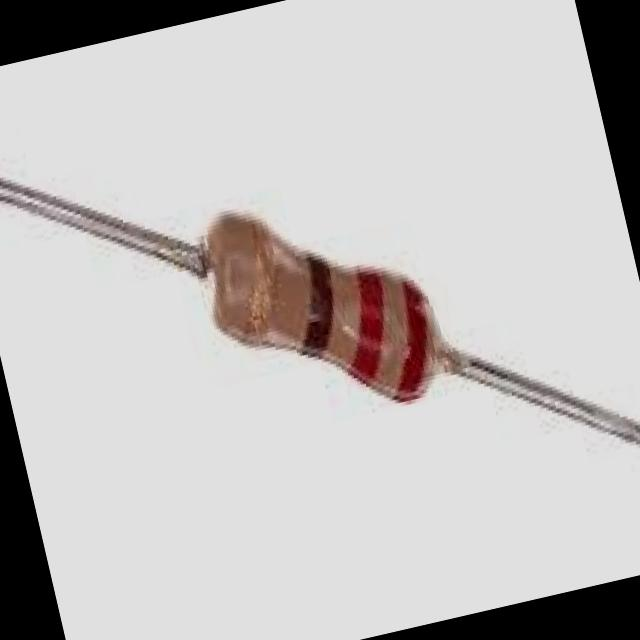Resistor: (193, 216, 468, 404)
brown: (302, 241, 330, 360)
gold: (239, 211, 271, 344)
red: (348, 255, 384, 389), (394, 269, 422, 400)
